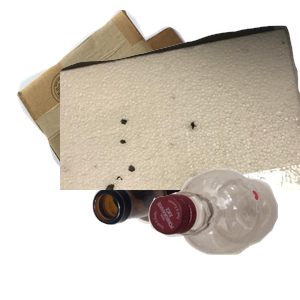cardboard: (14, 10, 222, 190)
glass: (90, 148, 300, 300)
plastic: (146, 166, 300, 300)
trash: (60, 23, 300, 203)
